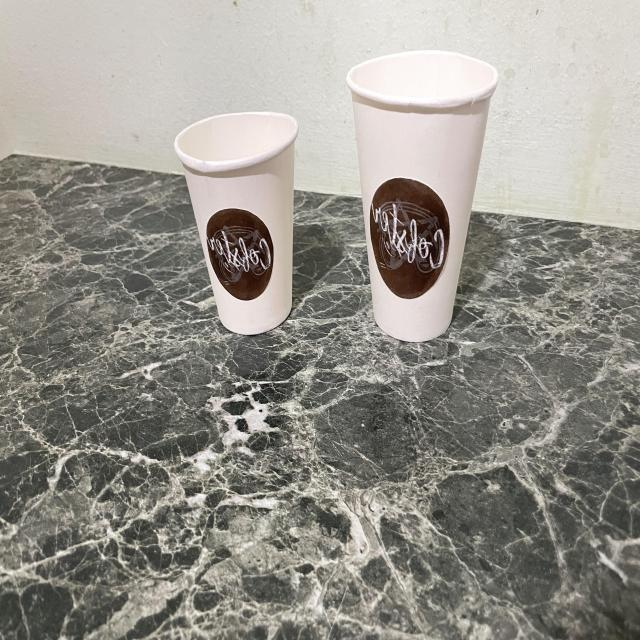big: (334, 36, 514, 344)
medium: (171, 100, 308, 338)
